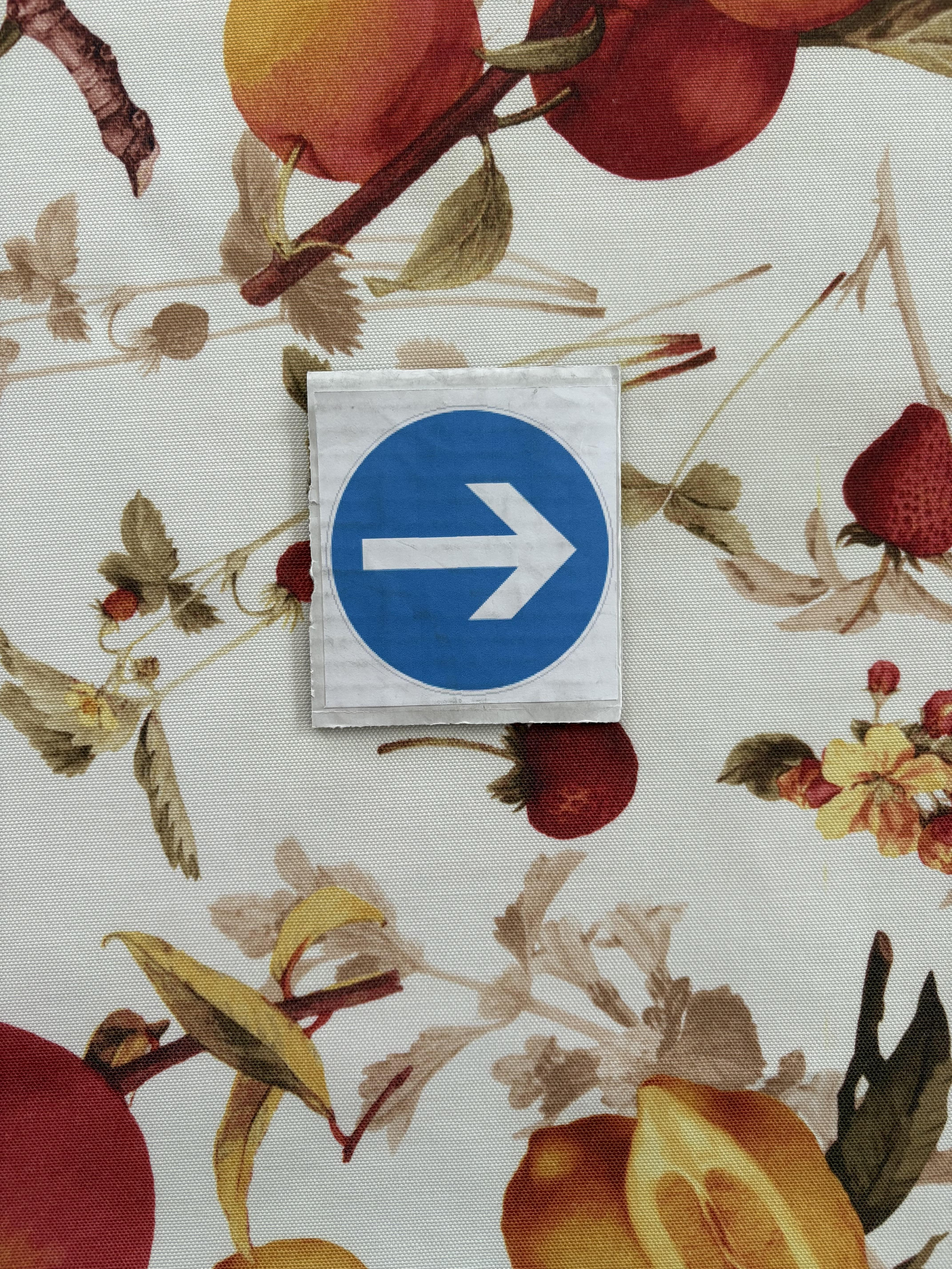Proceed Right: (307, 373, 624, 722)
